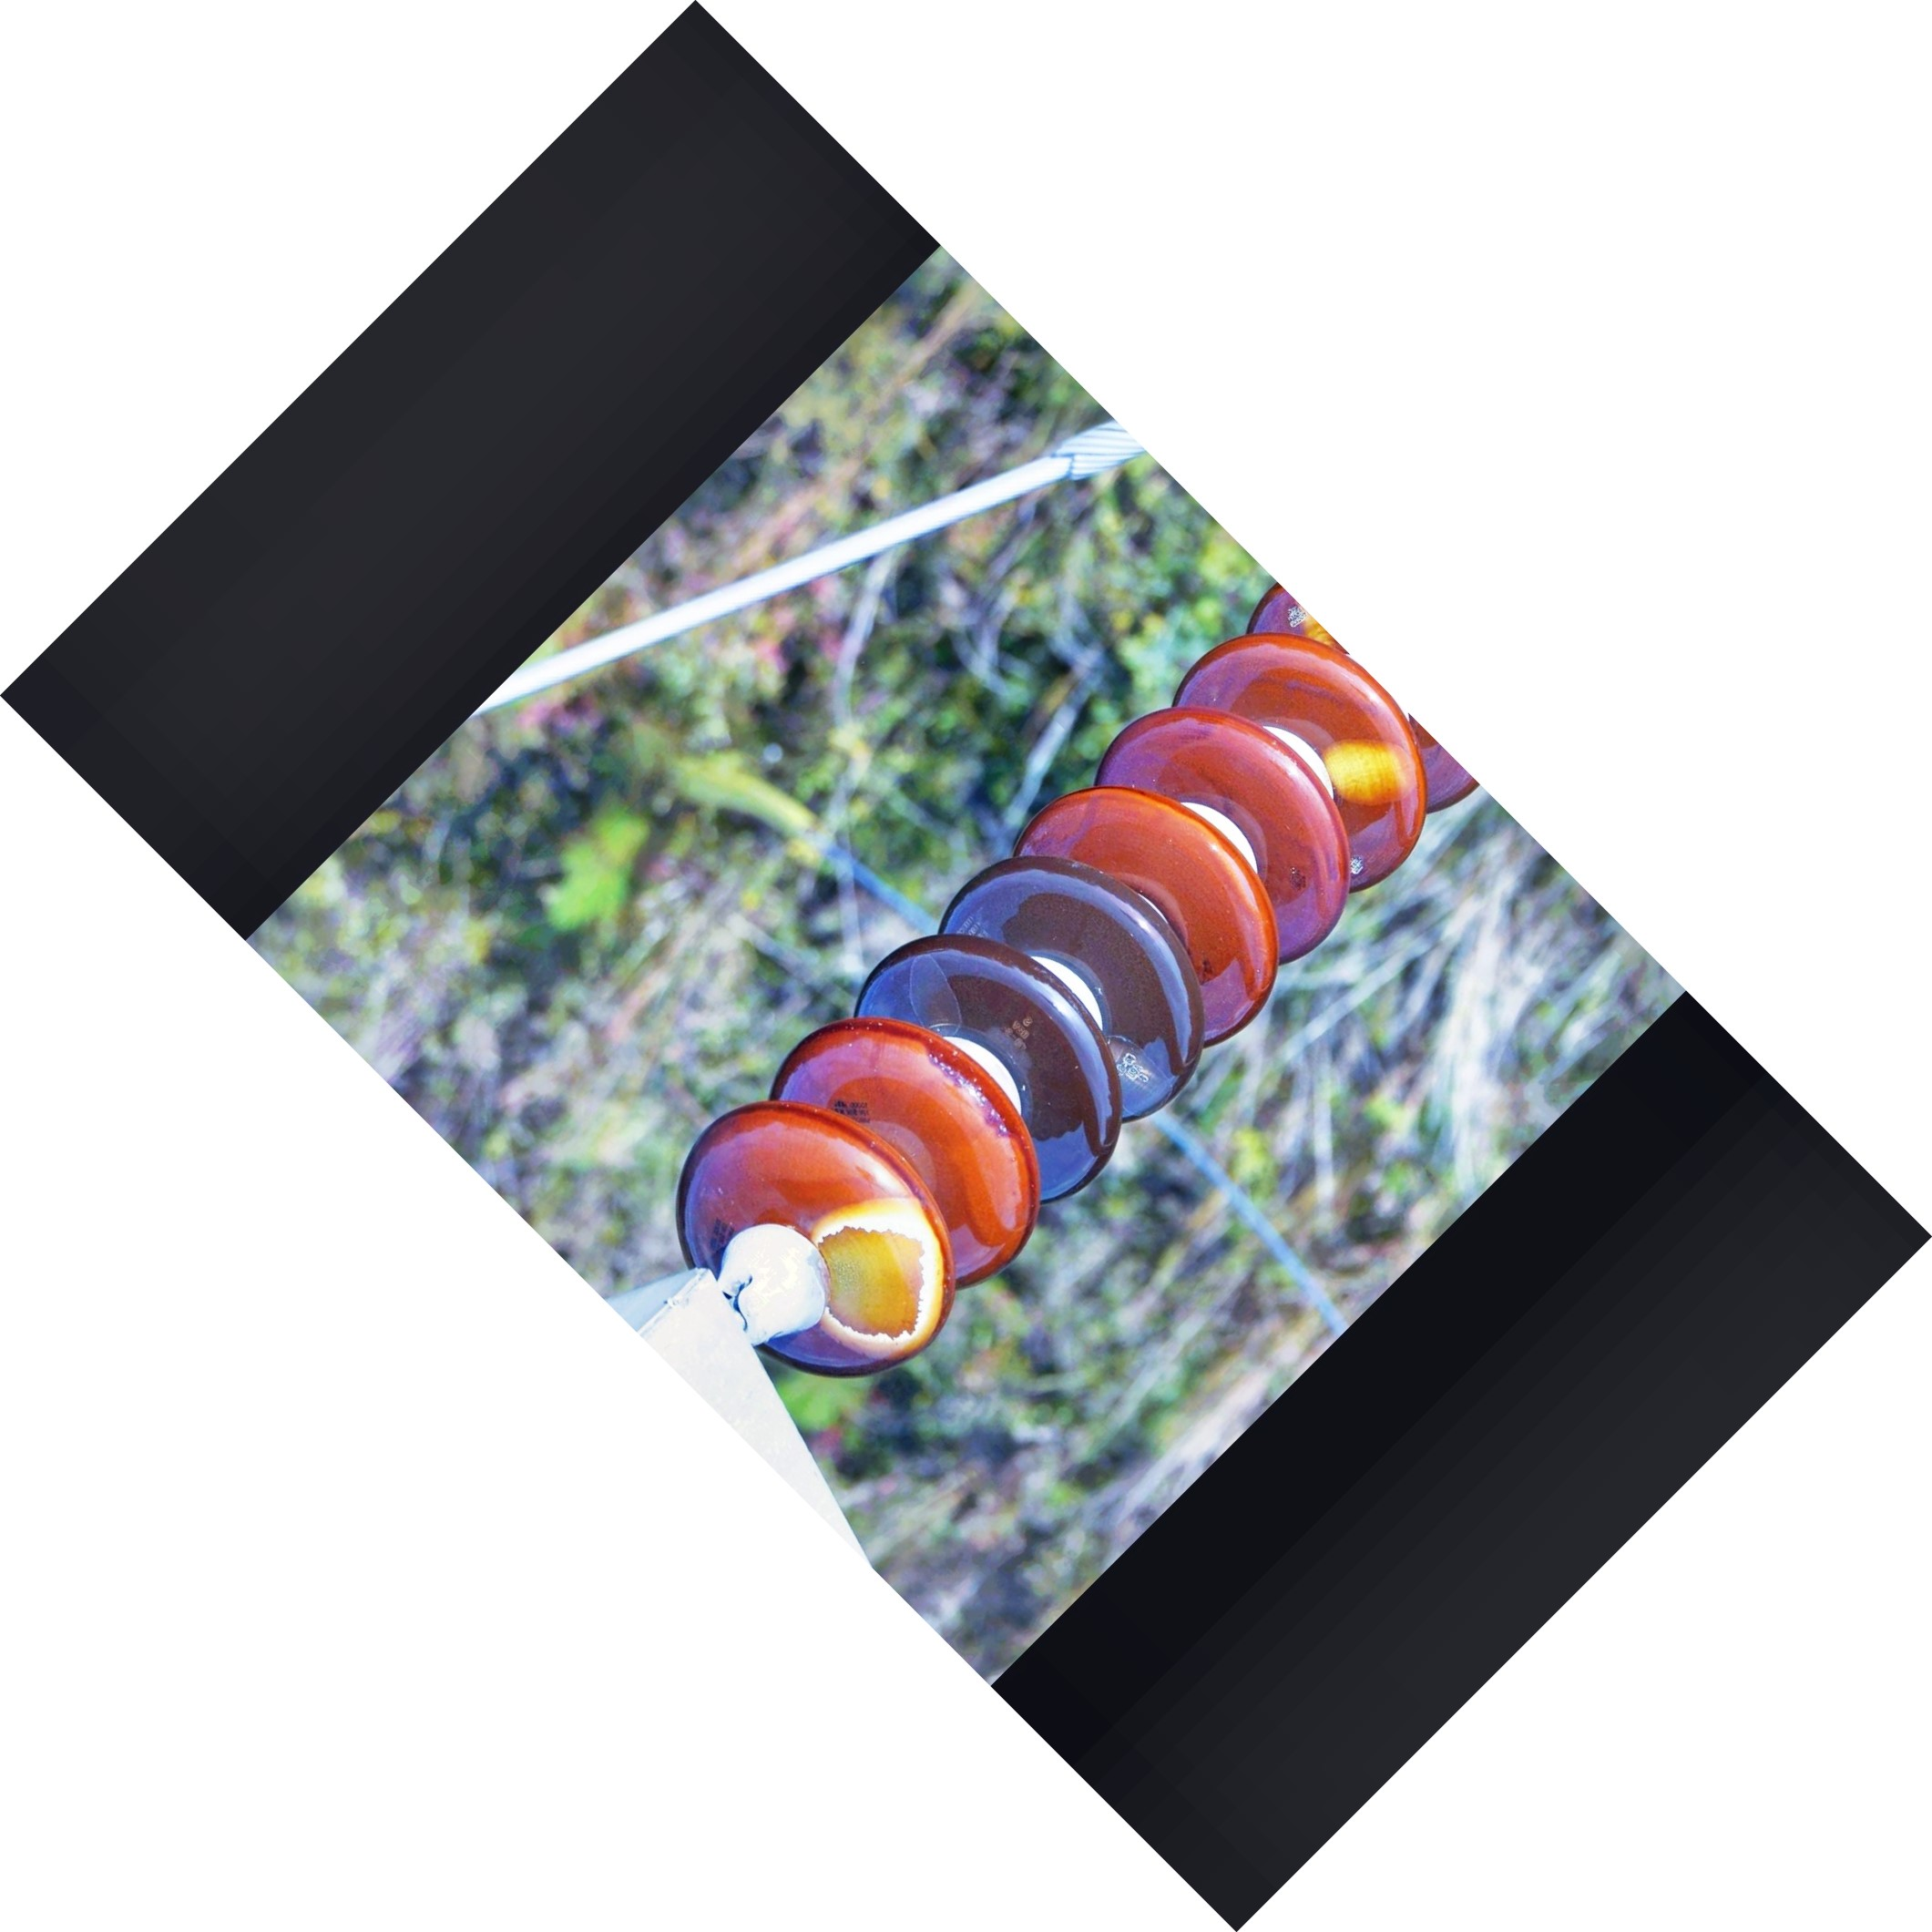Insulator flashover: (651, 1095, 970, 1405)
